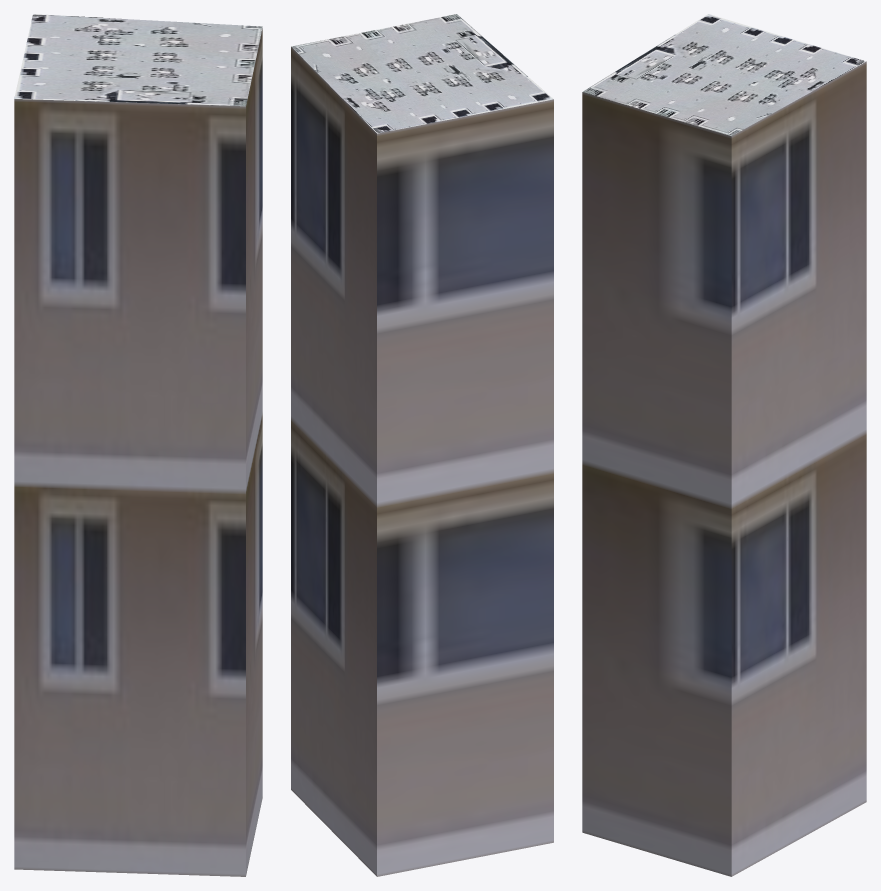
The model's file is ResTex__4253.fbx.
3 views of the same model, side by side, from view 1: azimuth 30°, elevation 25°; view 2: azimuth 150°, elevation 25°; view 3: azimuth 270°, elevation 25° (orthographic). The views are drawn at different scales.
Visible parts, largest first — view 1: CityEngineMaterial_21_m, CityEngineMaterial_8_m; view 2: CityEngineMaterial_21_m, CityEngineMaterial_8_m; view 3: CityEngineMaterial_21_m, CityEngineMaterial_8_m.
Part boxes in pixels (bbox=[...]): CityEngineMaterial_21_m: bbox=[14, 28, 262, 876]; CityEngineMaterial_8_m: bbox=[14, 14, 262, 106]; CityEngineMaterial_21_m: bbox=[291, 47, 553, 876]; CityEngineMaterial_8_m: bbox=[291, 14, 553, 133]; CityEngineMaterial_21_m: bbox=[582, 61, 866, 876]; CityEngineMaterial_8_m: bbox=[583, 14, 865, 135].
Size of the model in its own units: 2.12 by 6 by 2.09.
2 materials, 2 textured.
